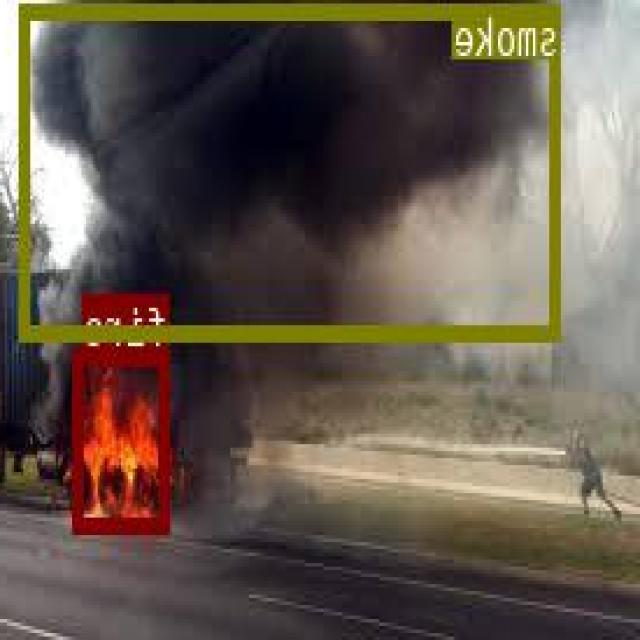fire: (76, 346, 170, 530)
smoke: (21, 1, 561, 338)
